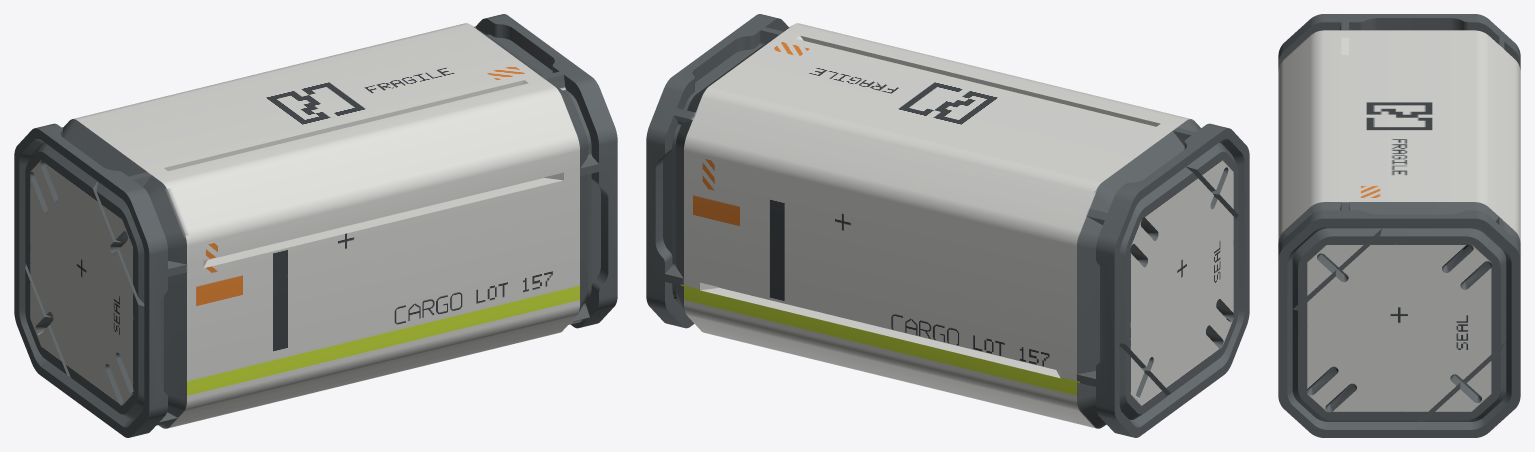
Rendered from long-box.glb.
3 views of the same model, side by side, from view 1: azimuth 30°, elevation 25°; view 2: azimuth 150°, elevation 25°; view 3: azimuth 270°, elevation 25° (orthographic). The views are drawn at different scales.
Parts seen in each view (by area): view 1: long-box-full; view 2: long-box-full; view 3: long-box-full.
Boxes of the visible parts, x1=… form: long-box-full: x1=14, y1=14, x2=617, y2=437; long-box-full: x1=646, y1=14, x2=1249, y2=437; long-box-full: x1=1278, y1=14, x2=1520, y2=437.
Bounding box in the file's own units: 50 × 25 × 25.
Materials: 1 (1 with a texture image).
